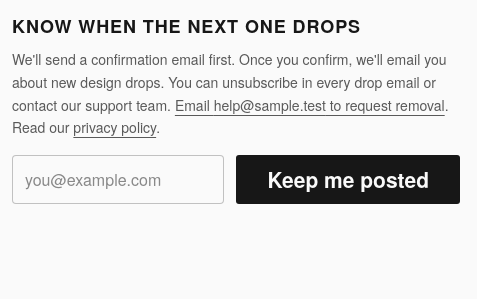
DropSignupForm › sends the address with the surface that collected it, and says so
The image size is (477, 299).
Type "shopper@example.com" into the field labelled "Know when the next one drops" at (118, 180), box [12,155,224,204]
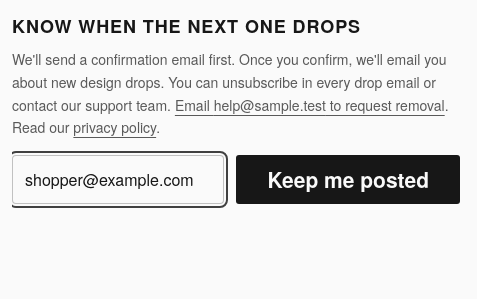
Click the button "Keep me posted" at (348, 180), box [236,155,460,204]
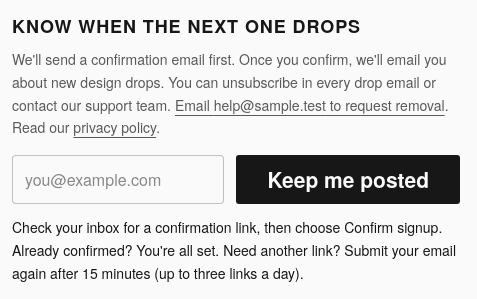
Now the text "Check your inbox for a confirmation link, then choose Confirm signup. Already confirmed? You're all set. Need another li" is shown, box [12,217,456,283]
Now the field labelled "Know when the next one drops" is empty, box [12,155,224,204]
